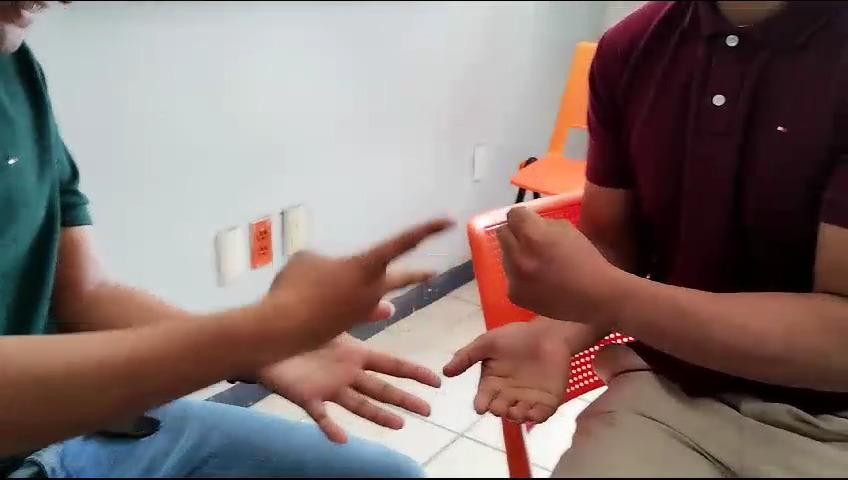Scissor: (250, 194, 471, 356)
Stone: (489, 178, 622, 344)
